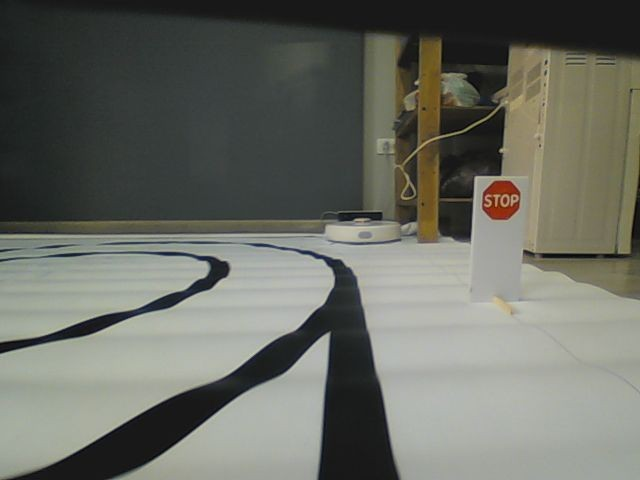Stop: (481, 181, 523, 222)
